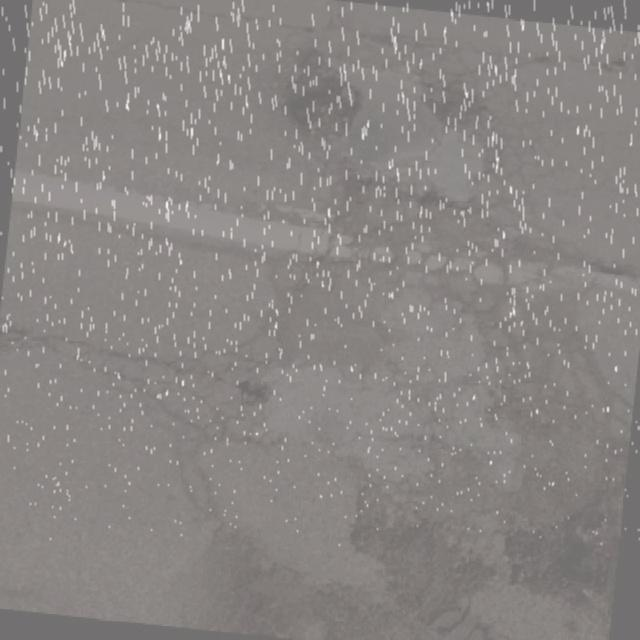Pothole: (146, 409, 408, 616), (312, 34, 508, 204), (382, 238, 527, 307)
